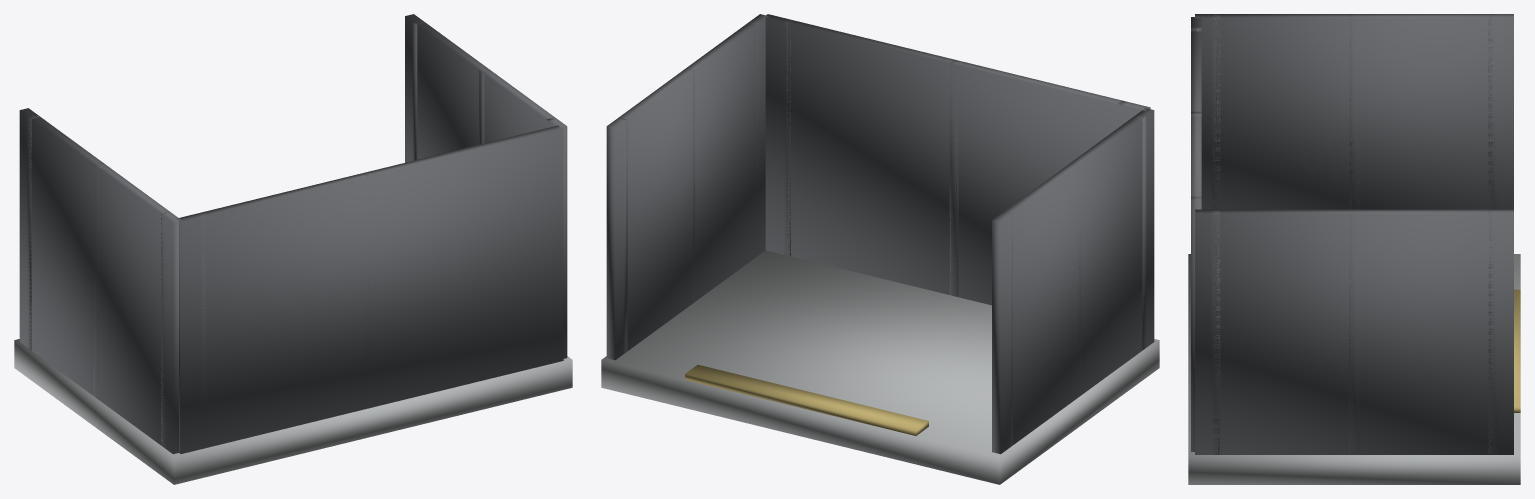
The model's file is landing_industrial_w180_d125_door.glb.
The picture shows the model from 3 angles, left to right: view 1: azimuth 30°, elevation 25°; view 2: azimuth 150°, elevation 25°; view 3: azimuth 270°, elevation 25°; orthographic projection. The views are drawn at different scales.
Visible parts, largest first — view 1: world; view 2: world; view 3: world.
Part boxes in pixels (x1,y1,x2,y2): world: (14,14,572,484); world: (601,14,1159,484); world: (1188,14,1520,484).
Bounding box in the file's own units: 1.8 × 1.12 × 1.25.
